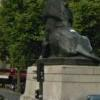Statue: (24, 3, 99, 68)
